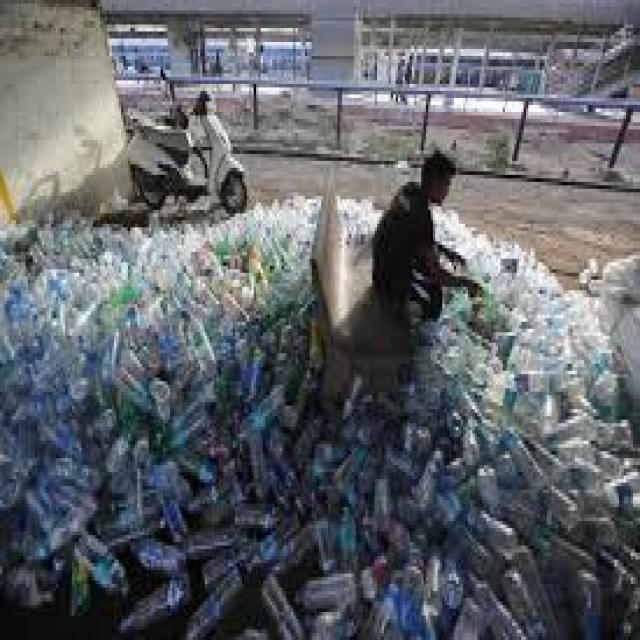heap: (14, 241, 319, 546)
